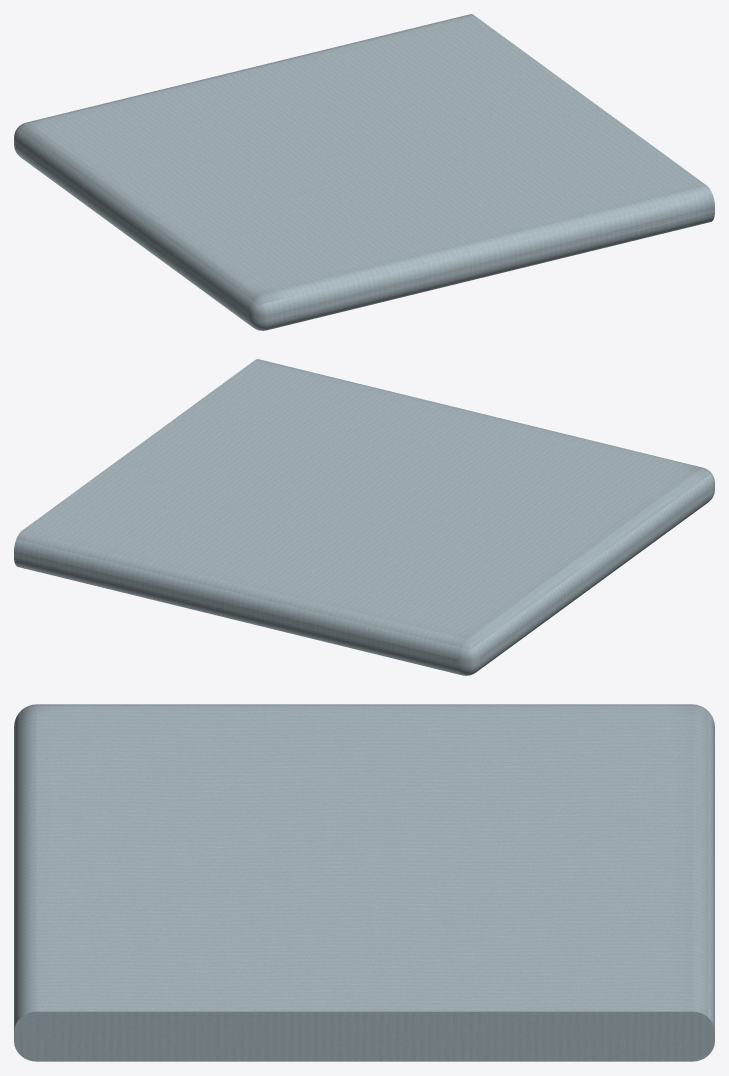
File: 21-deep-lunch-tin-lid-1.fbx
3 views of the same model, one above another, from view 1: azimuth 30°, elevation 25°; view 2: azimuth 150°, elevation 25°; view 3: azimuth 270°, elevation 25° (orthographic). The views are drawn at different scales.
Visible parts, largest first — view 1: deep-lunch-tin-lid-1; view 2: deep-lunch-tin-lid-1; view 3: deep-lunch-tin-lid-1.
Part boxes in pixels (box(x1,y1,x2,y2)): deep-lunch-tin-lid-1: box(14, 14, 714, 330); deep-lunch-tin-lid-1: box(14, 359, 714, 675); deep-lunch-tin-lid-1: box(14, 704, 714, 1061).
Bounding box in the file's own units: 8500 × 630 × 8000.
1 material, 1 textured.
